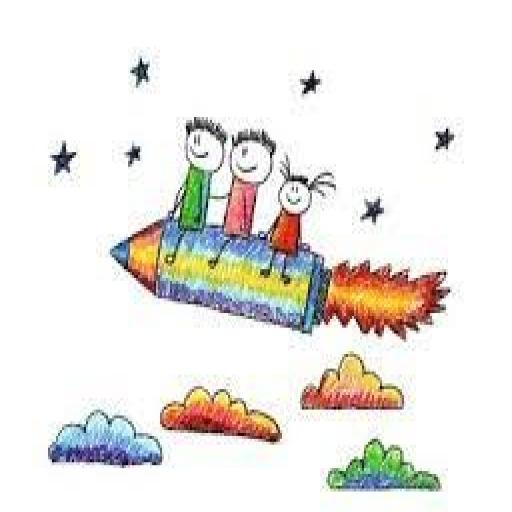person: (153, 114, 224, 284), (253, 156, 340, 290), (201, 127, 278, 276)
